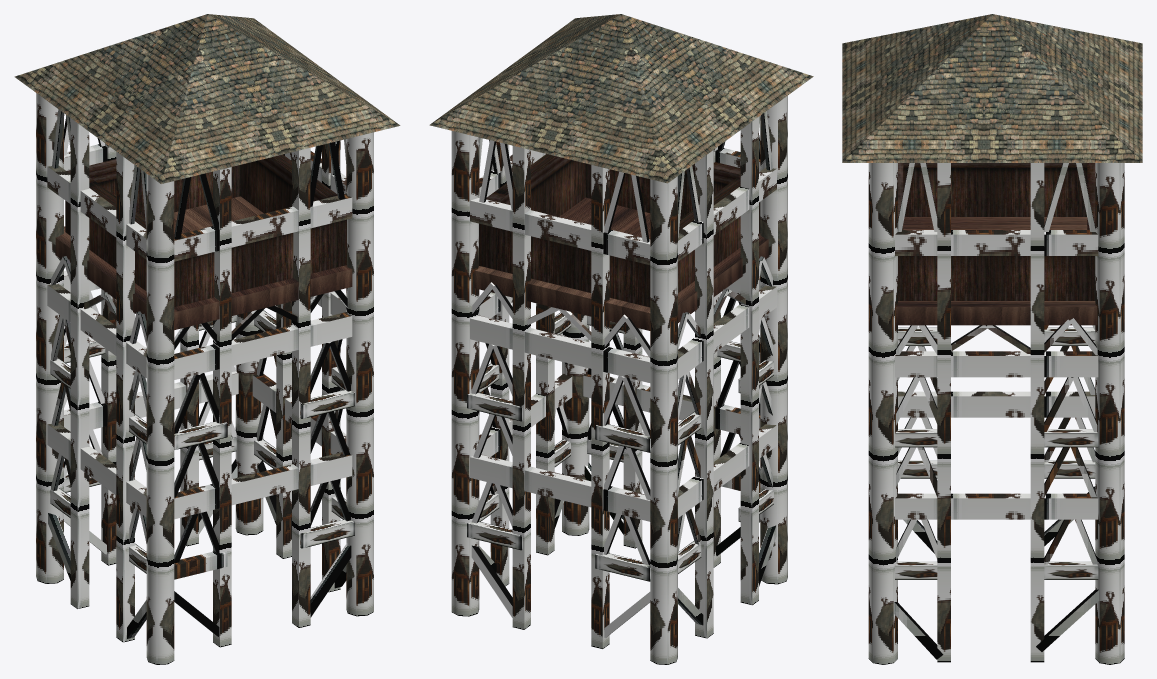
Rendered from Tower.obj.
3 views of the same model, side by side, from view 1: azimuth 30°, elevation 25°; view 2: azimuth 150°, elevation 25°; view 3: azimuth 270°, elevation 25° (orthographic). The views are drawn at different scales.
Visible parts, largest first — view 1: Box031, Pyramid001, Rectangle001, Box089; view 2: Box031, Pyramid001, Rectangle001, Box089; view 3: Box031, Pyramid001, Rectangle001, Box089.
Part boxes in pixels (x1,y1,x2,y2): Box031: [36, 93, 373, 664]; Pyramid001: [14, 14, 400, 183]; Rectangle001: [65, 154, 346, 306]; Box089: [55, 196, 352, 329]; Box031: [451, 95, 787, 664]; Pyramid001: [429, 14, 813, 183]; Rectangle001: [479, 154, 760, 307]; Box089: [474, 197, 768, 330]; Box031: [868, 163, 1124, 664]; Pyramid001: [842, 14, 1142, 162]; Rectangle001: [898, 163, 1095, 300]; Box089: [896, 217, 1097, 325].
Size of the model in its own units: 18.41 by 42.68 by 19.53.
